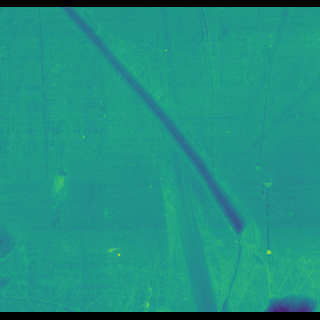Loch: (35, 14, 268, 258), (0, 234, 320, 304), (154, 145, 230, 305), (252, 11, 295, 170), (40, 161, 75, 205)
